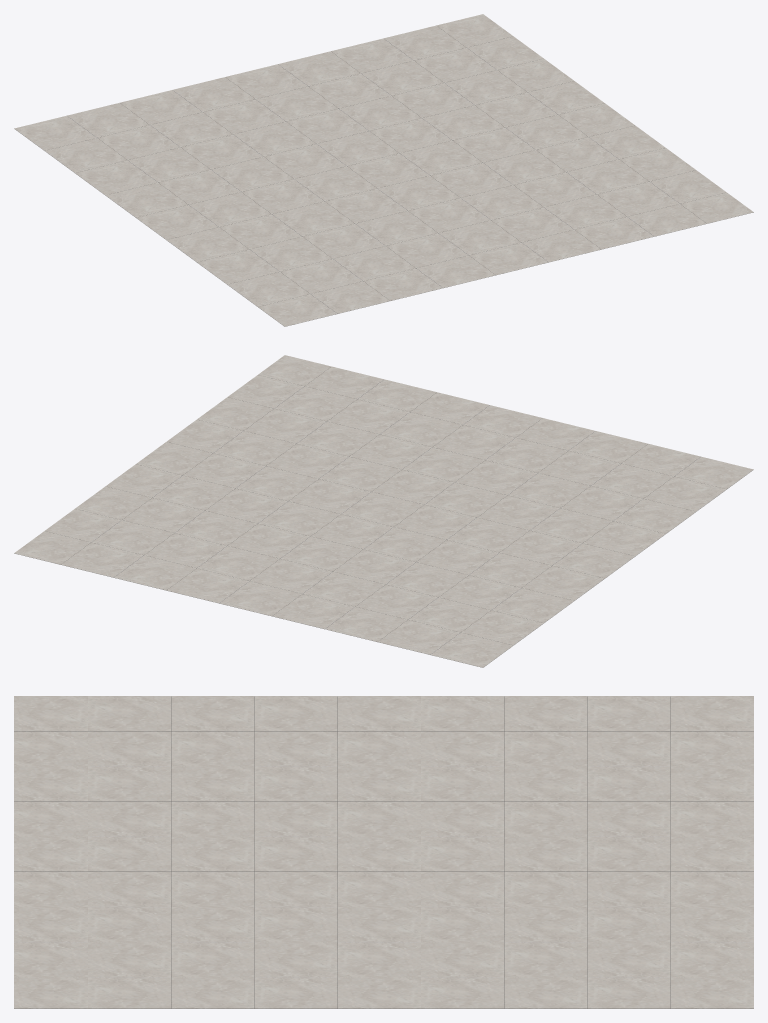
Rendered from bali-90x90.glb.
3 views of the same model, one above another, from view 1: azimuth 30°, elevation 25°; view 2: azimuth 150°, elevation 25°; view 3: azimuth 270°, elevation 25° (orthographic). The views are drawn at different scales.
Parts seen in each view (by area): view 1: Bali; view 2: Bali; view 3: Bali.
Part boxes in pixels (left/top/right/bottom): Bali: left=14, top=14, right=753, bottom=326; Bali: left=14, top=355, right=753, bottom=667; Bali: left=14, top=696, right=753, bottom=1008.
Bounding box in the file's own units: 8 × 0.003 × 8.
Materials: 2 (1 with a texture image).
